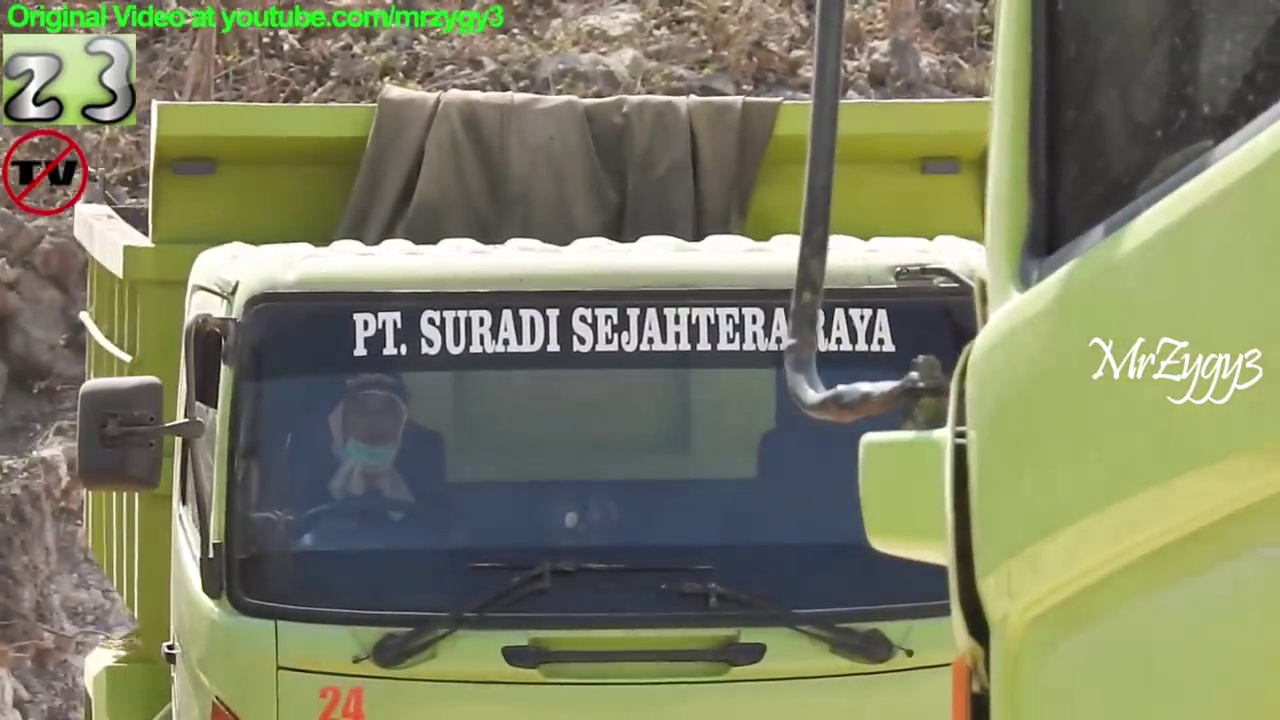truck: (62, 85, 1210, 720), (750, 1, 1280, 720)
